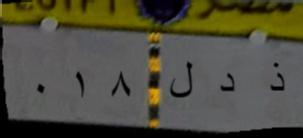0: (28, 79, 51, 101)
1: (68, 68, 91, 103)
8: (110, 69, 134, 104)
daal: (214, 69, 240, 100)
laam: (166, 56, 198, 103)
zaal: (263, 59, 290, 100)
